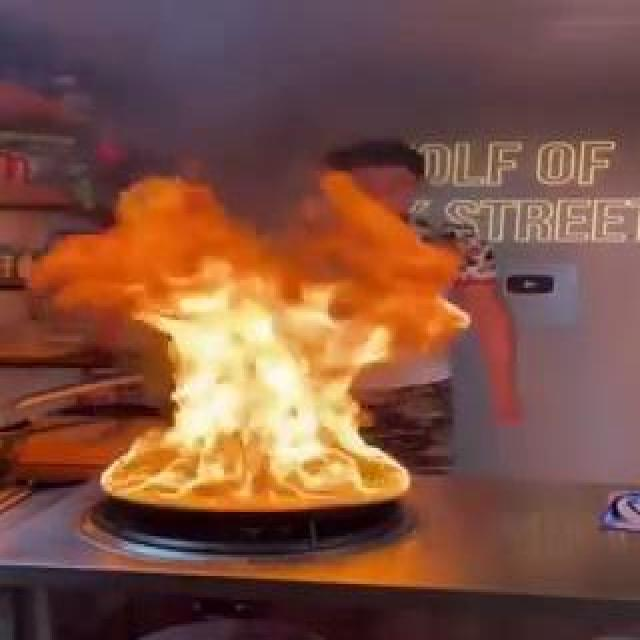Fire: (57, 142, 415, 518)
